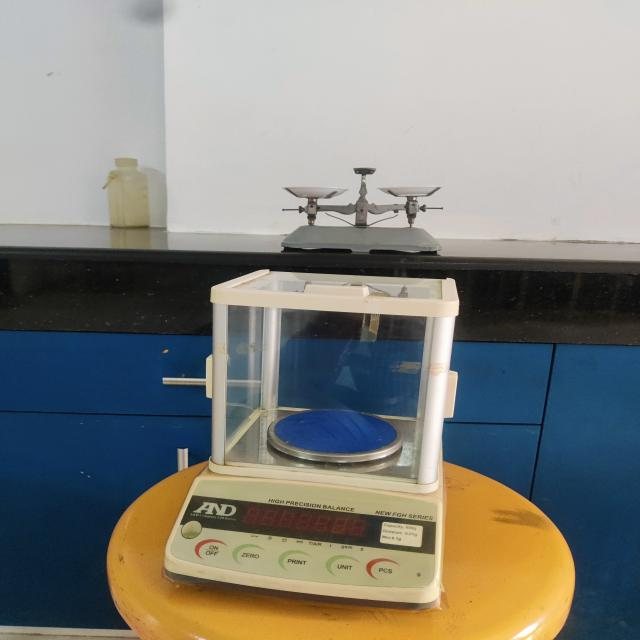Mechanical_Balance_Scale: (242, 153, 454, 257)
Precision_Weight_Scale: (139, 259, 494, 625)
